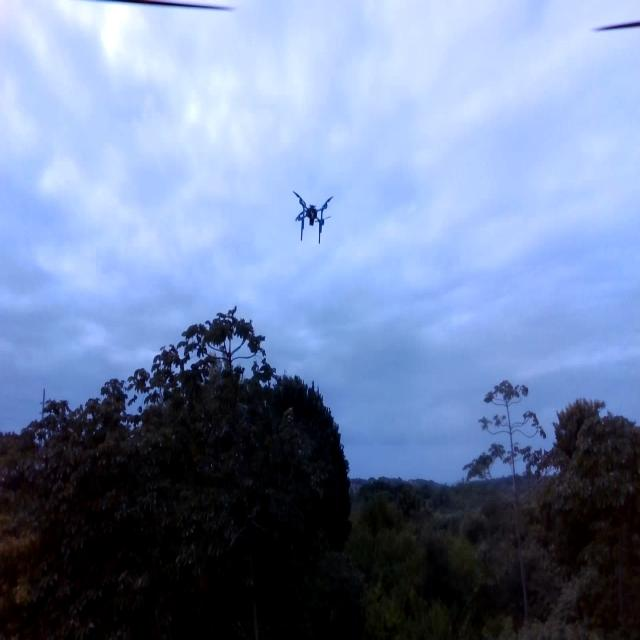-uav-: (288, 173, 336, 249)
